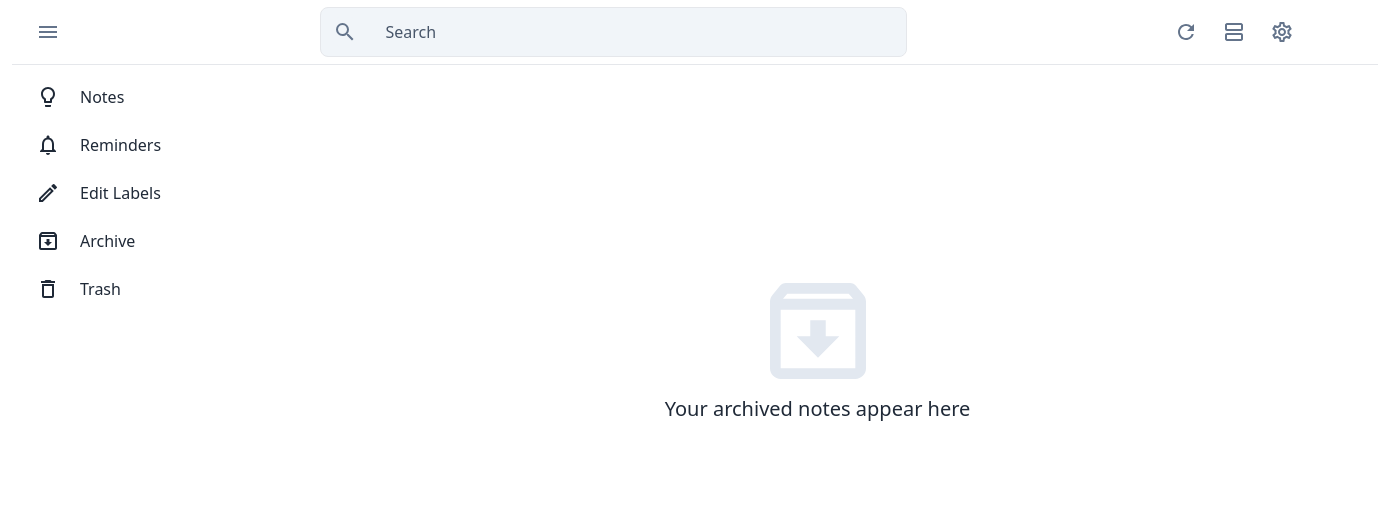
tabs go to their respective pages › clicking the trash tab opens the trash page
Click the button "Trash" at (135, 289), box [12,265,257,313]
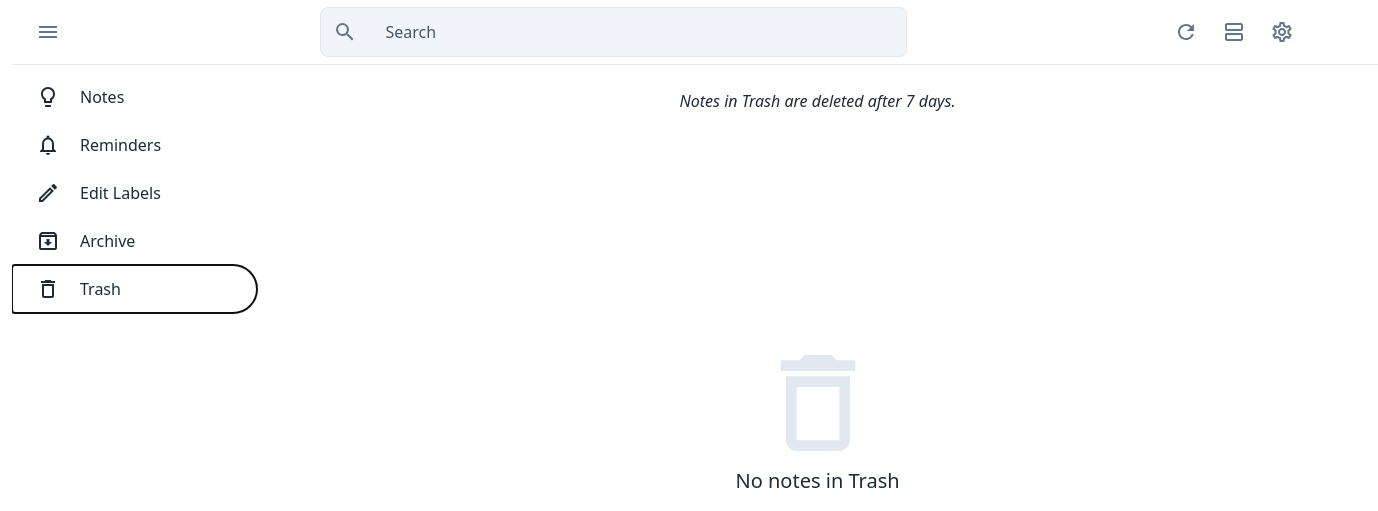
Check: the heading "No notes in Trash" is shown, box [736,467,900,495]
Check: the text "Notes in Trash are deleted after 7 days." is shown, box [680,90,956,112]
